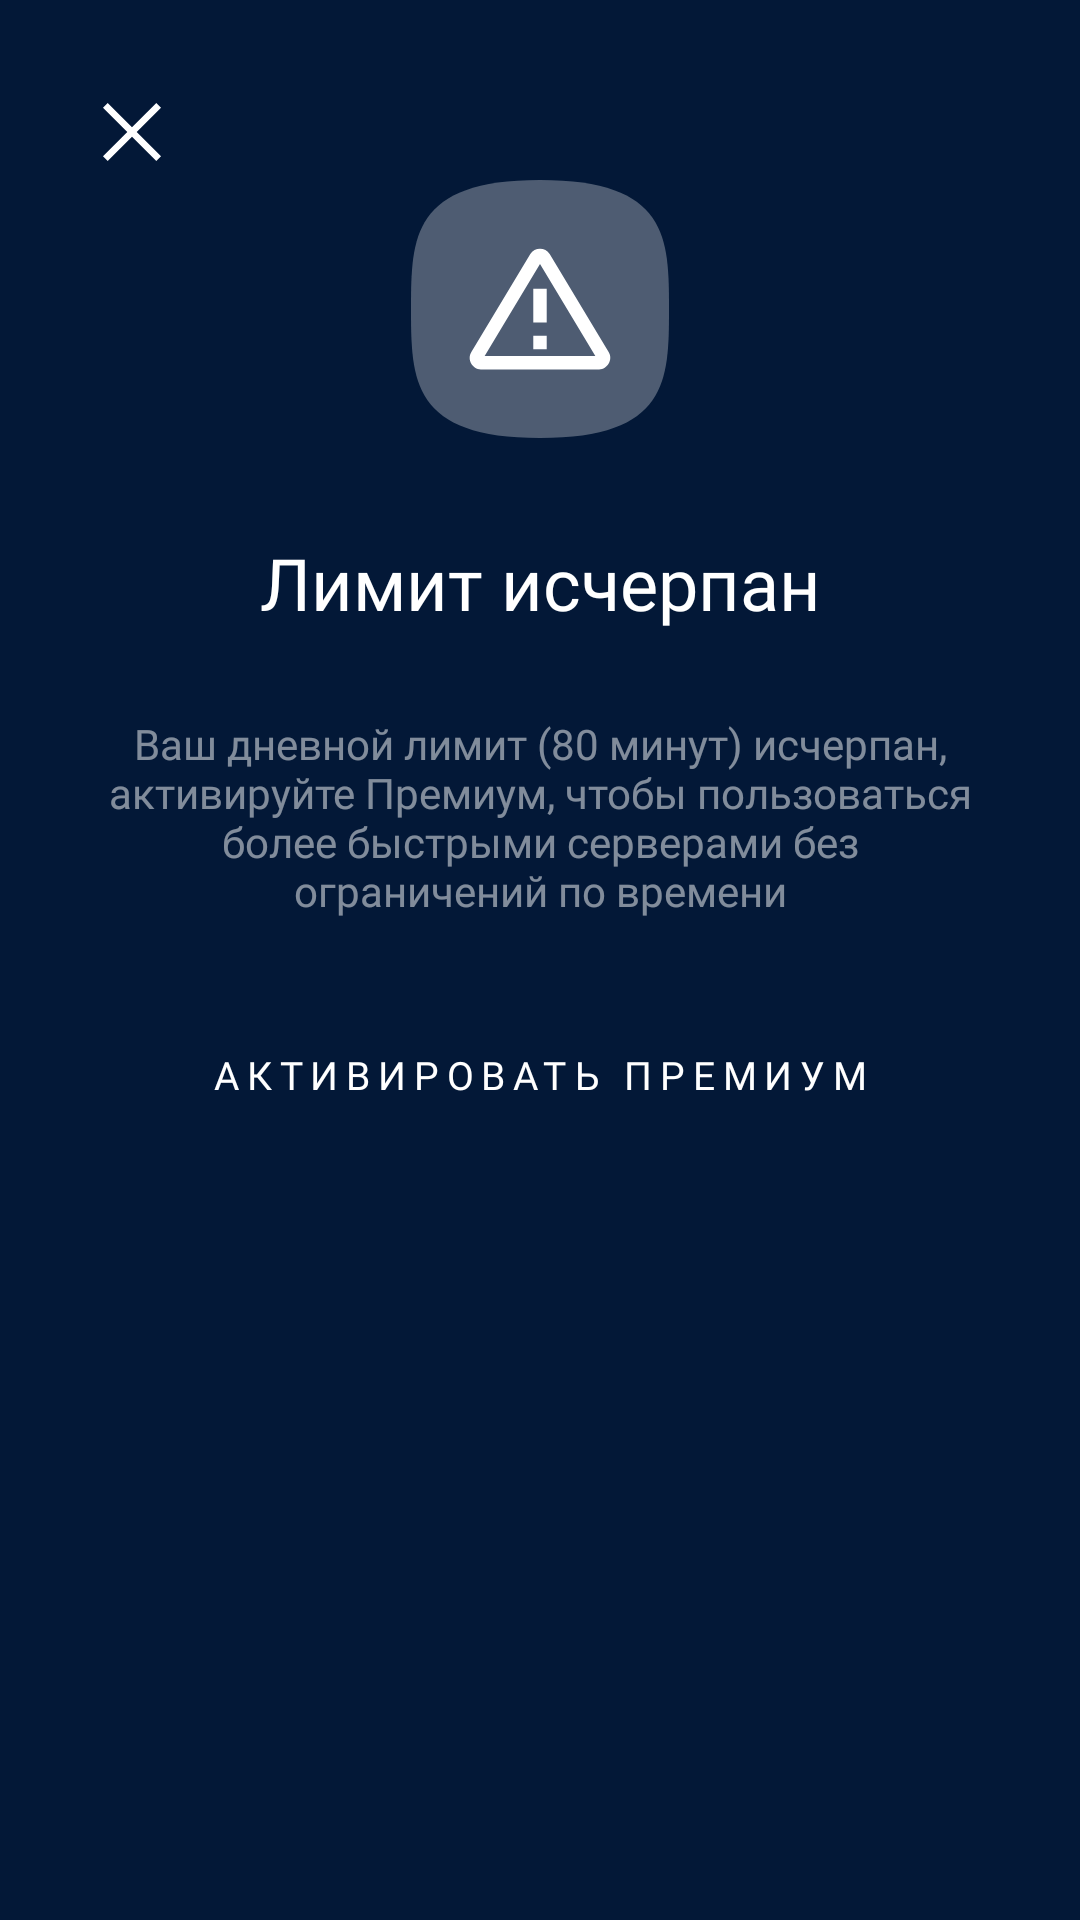

Where icons sit on this 1080w x 1920h app screen, as (x1, y1, x2, y2):
warning: (411, 180, 669, 438)
